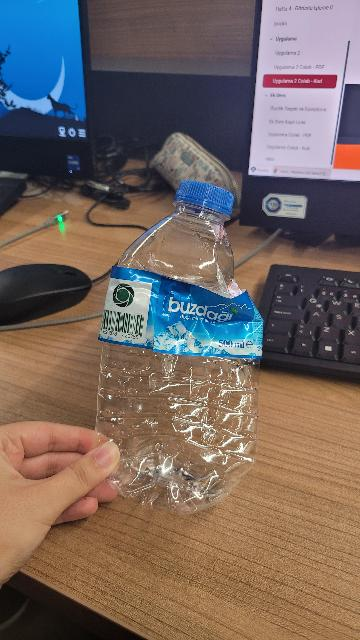Plastik: (93, 187, 261, 534)
